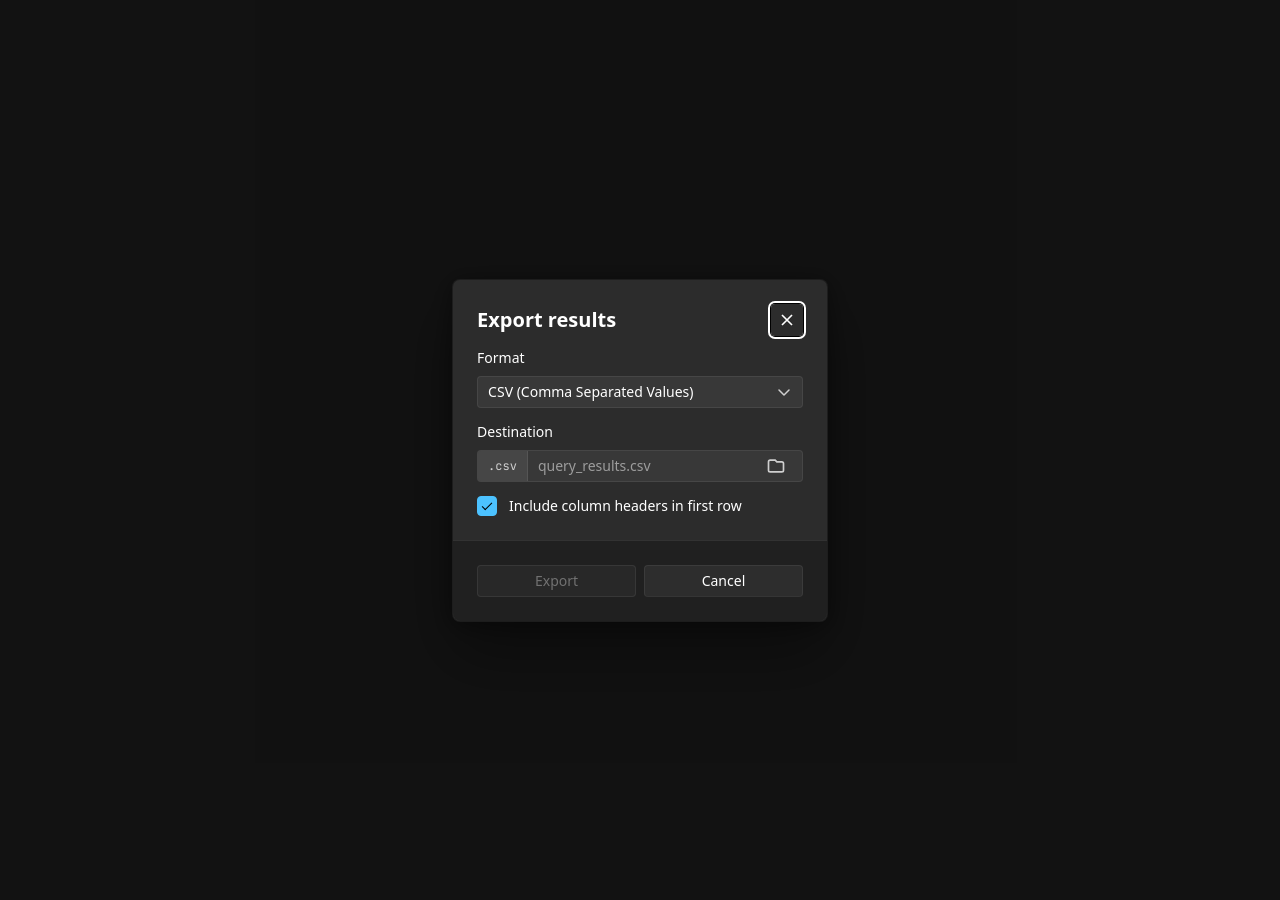
Test: ExportDialog › defaultTableName prop sets initial table name
Click the dropdown with test id "export-format-select" at (640, 392), box [477, 376, 803, 408]
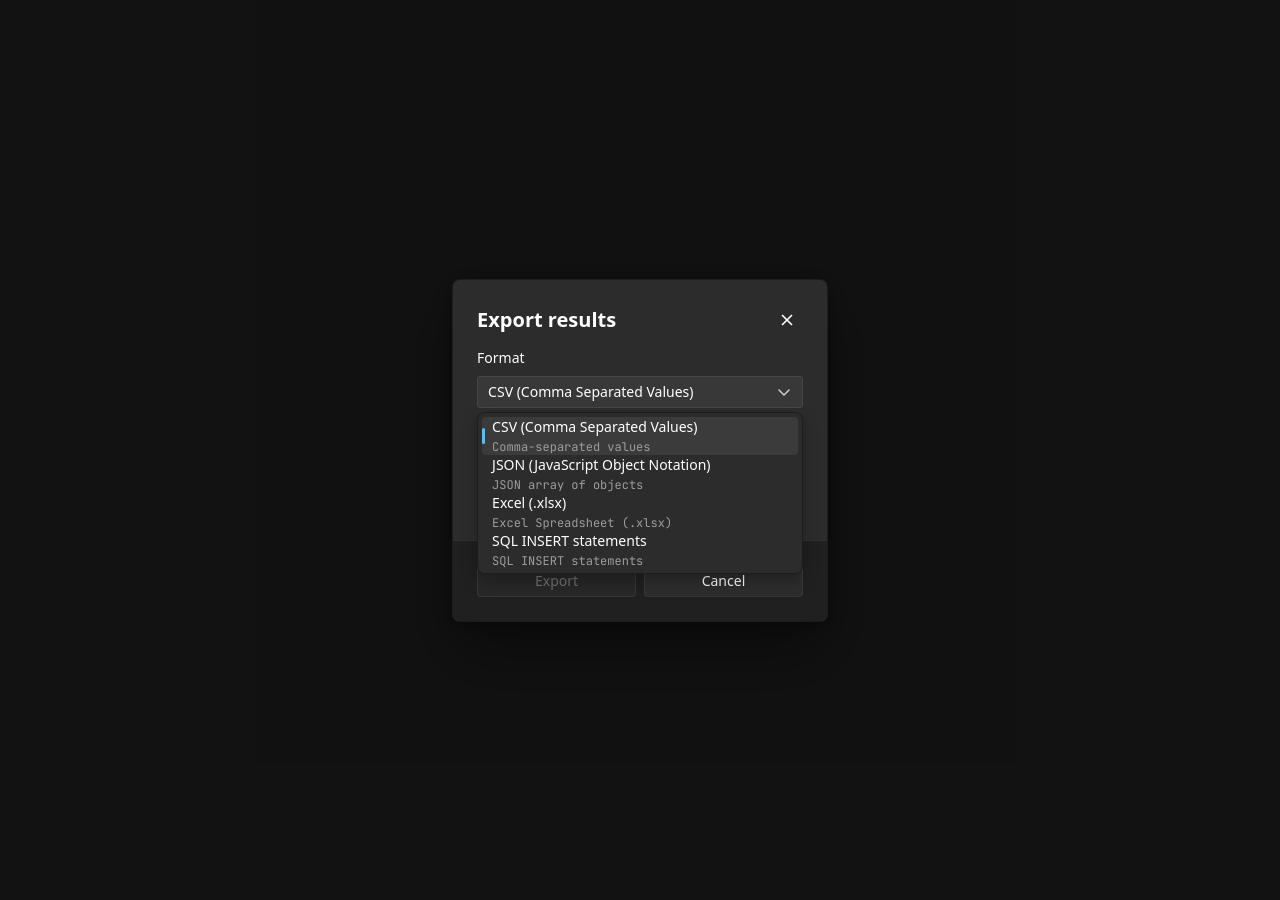
Click the option "SQL INSERT statements" at (569, 550), box [492, 530, 647, 568]
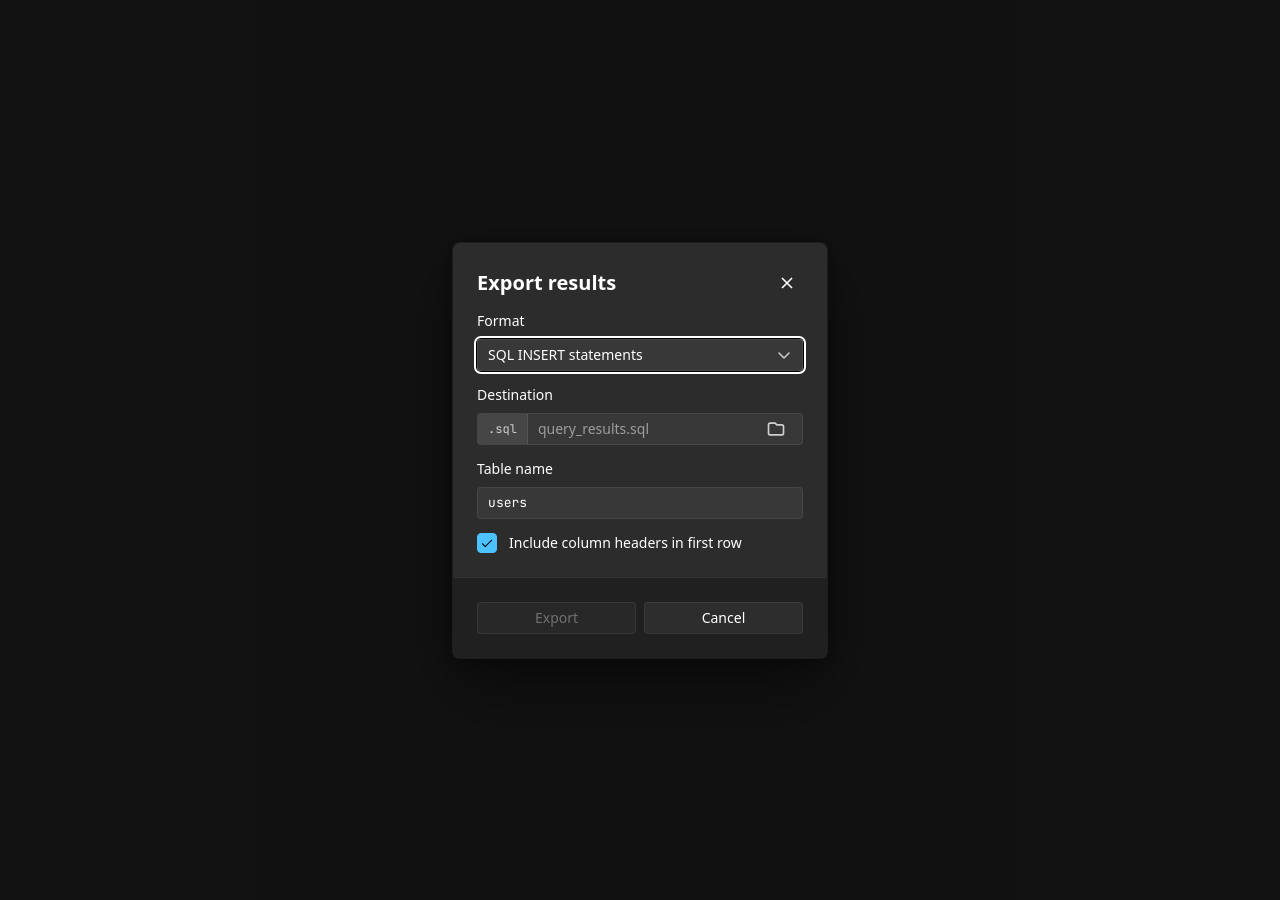
Result: the field with test id "export-table-name-input" holds "users" at [477, 486, 803, 518]
